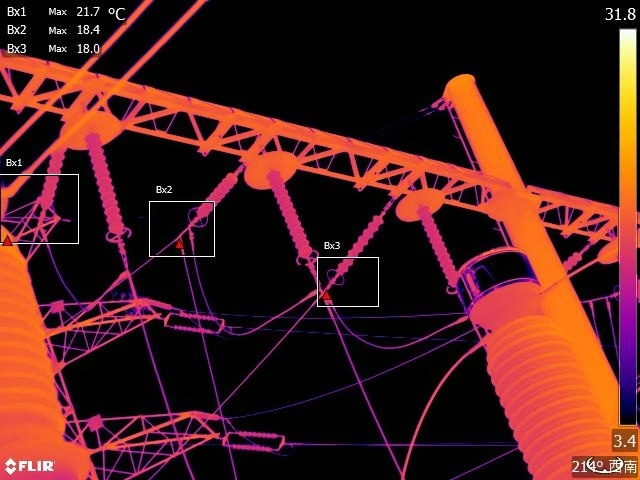clamp: (303, 281, 332, 300), (181, 221, 200, 245)
current transformer: (450, 232, 640, 480)
insulator: (84, 122, 135, 245), (268, 168, 321, 272), (327, 205, 386, 288), (418, 197, 456, 293), (188, 167, 236, 229), (158, 306, 231, 344), (36, 134, 69, 214), (219, 425, 291, 456), (559, 243, 588, 271)
